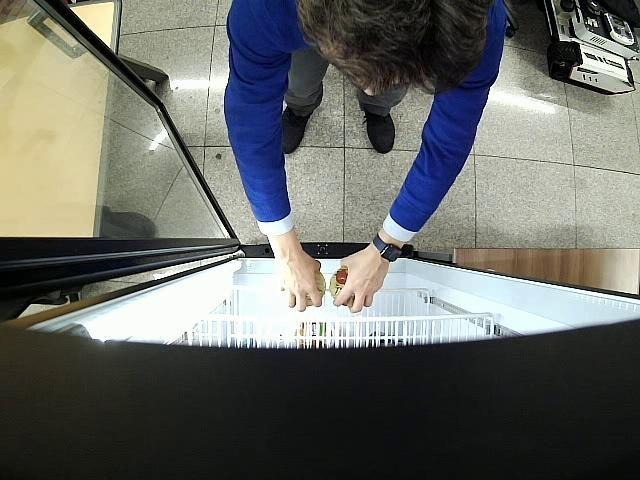04_chapagetti_S: (330, 266, 354, 306), (304, 270, 326, 306)
